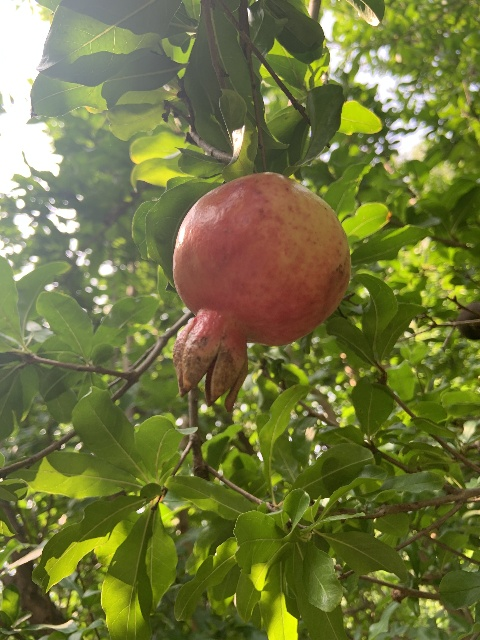ripe: (172, 172, 350, 409)
